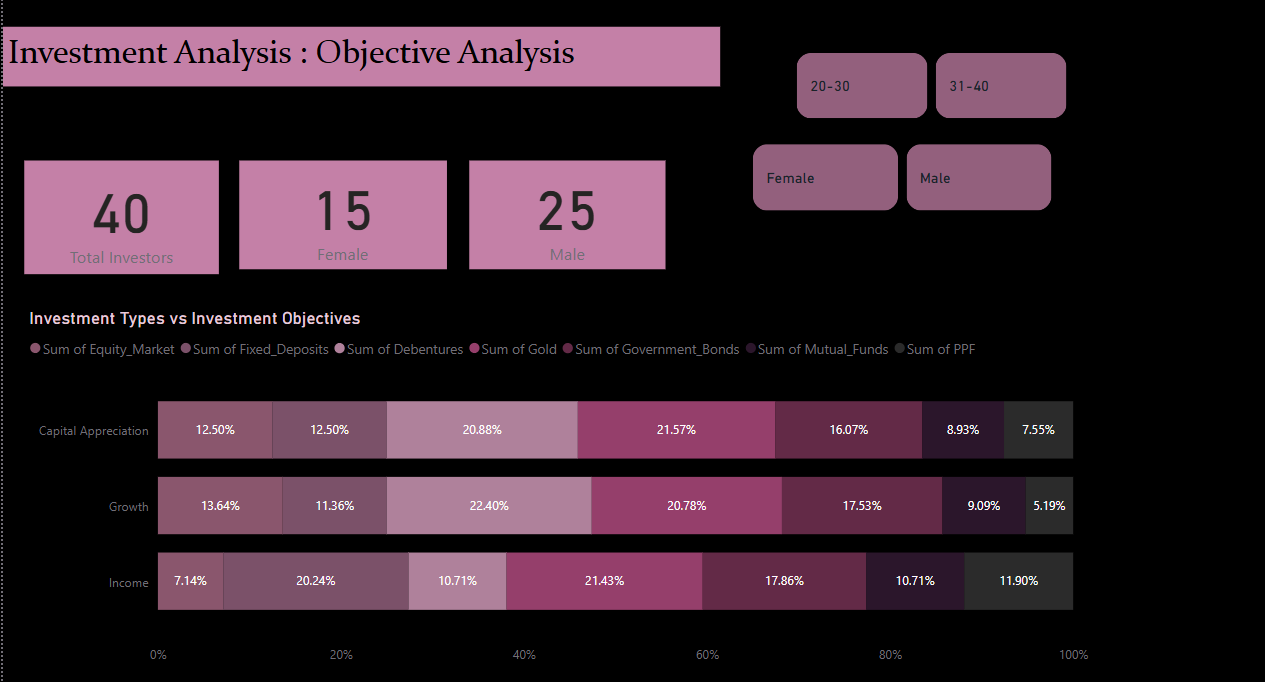

This screenshot's page, from the dashboard's own definition file:
{"tool":"powerbi","page":{"name":"Objective Analysis","canvas":[1280,720],"ordinal":2},"visuals":[{"type":"card","fields":{"Values":["POWER BI COGNIFZY.Female"]},"box":[231.1,159,203,106.4],"z":0},{"type":"card","fields":{"Values":["POWER BI COGNIFZY.Male"]},"box":[456.1,159,192,106.4],"z":1000},{"type":"card","fields":{"Values":["CountNonNull(POWER BI COGNIFZY.Age group)"]},"box":[20.8,159,190.8,111.3],"z":2000},{"type":"textbox","box":[0,28.1,701.9,58.7],"z":3000},{"type":"advancedSlicerVisual","fields":{"Values":["POWER BI COGNIFZY.Age group"]},"box":[771.6,48.9,275.1,74.6],"z":4000},{"type":"advancedSlicerVisual","fields":{"Values":["POWER BI COGNIFZY.gender"]},"box":[728.8,138.2,302,75.8],"z":5000},{"type":"hundredPercentStackedBarChart","title":"Investment Types vs Investment Objectives","fields":{"Category":["POWER BI COGNIFZY.Objective"],"Y":["Sum(POWER BI COGNIFZY.Equity_Market)","Sum(POWER BI COGNIFZY.Fixed_Deposits)","Sum(POWER BI COGNIFZY.Debentures)","Sum(POWER BI COGNIFZY.Gold)","Sum(POWER BI COGNIFZY.Government_Bonds)","Sum(POWER BI COGNIFZY.Mutual_Funds)","Sum(POWER BI COGNIFZY.PPF)"]},"box":[20.8,303.3,1046.7,357.1],"z":6000}]}

Visuals, with their boxes on the page's 1280x720 design canvas (x1, y1, x2, y2). These are canvas units, not pixel positions in the 1265x682 screenshot, which may show the page scaled, cropped or inside an application window:
card - POWER BI COGNIFZY.Female: [x1=231, y1=159, x2=434, y2=265]
card - POWER BI COGNIFZY.Male: [x1=456, y1=159, x2=648, y2=265]
card - CountNonNull(POWER BI COGNIFZY.Age group): [x1=21, y1=159, x2=212, y2=270]
textbox: [x1=0, y1=28, x2=702, y2=87]
advancedSlicerVisual - POWER BI COGNIFZY.Age group: [x1=772, y1=49, x2=1047, y2=124]
advancedSlicerVisual - POWER BI COGNIFZY.gender: [x1=729, y1=138, x2=1031, y2=214]
"Investment Types vs Investment Objectives" hundredPercentStackedBarChart: [x1=21, y1=303, x2=1068, y2=660]
